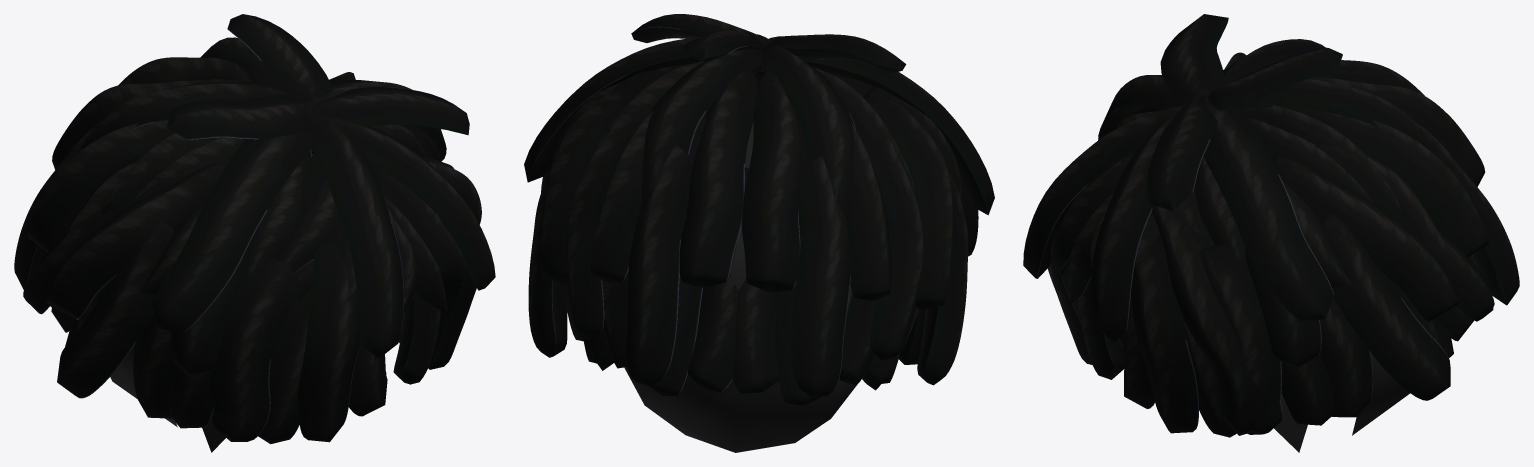
The model's file is Cacheado_0.glb.
3 renders of one model, left to right at view 1: azimuth 30°, elevation 25°; view 2: azimuth 150°, elevation 25°; view 3: azimuth 270°, elevation 25°, orthographic.
Parts seen in each view (by area): view 1: HEAD-REST; view 2: HEAD-REST; view 3: HEAD-REST.
Boxes of the visible parts, left/top/right/bottom form: HEAD-REST: left=14, top=14, right=495, bottom=452; HEAD-REST: left=524, top=14, right=994, bottom=452; HEAD-REST: left=1023, top=14, right=1519, bottom=452.
Bounding box in the file's own units: 0.0399 × 0.0365 × 0.0424.
1 material, 1 textured.
